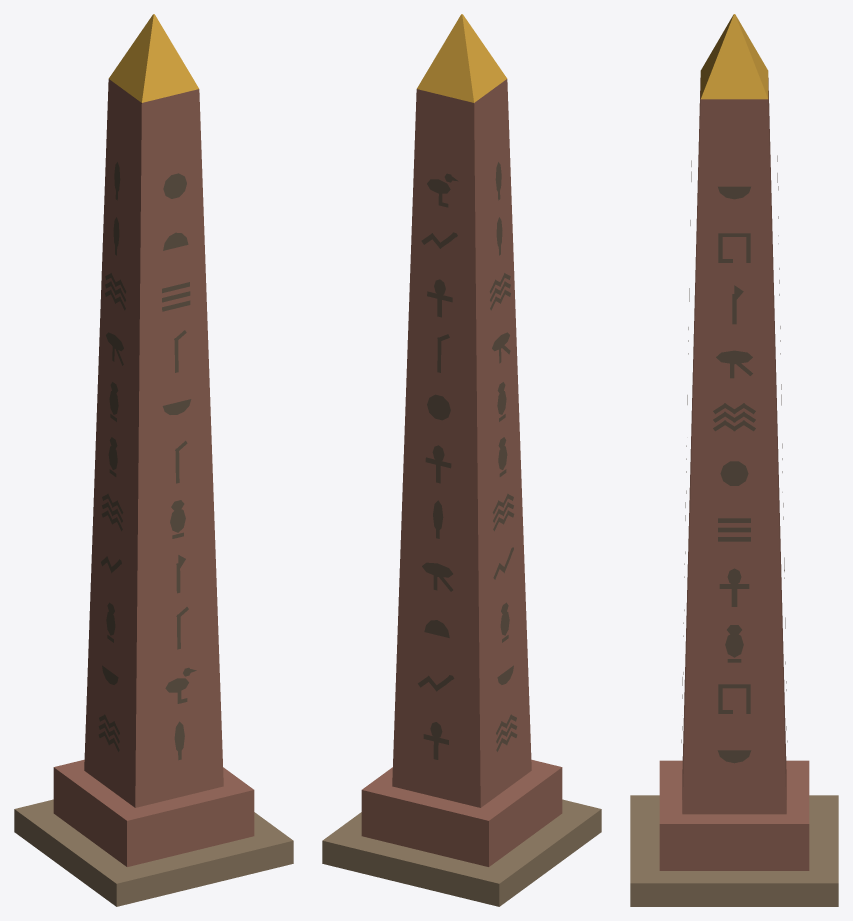
The model's file is obelisk.glb.
3 renders of one model, left to right at view 1: azimuth 30°, elevation 25°; view 2: azimuth 150°, elevation 25°; view 3: azimuth 270°, elevation 25°, orthographic.
Parts seen in each view (by area): view 1: obelisk; view 2: obelisk; view 3: obelisk.
Part boxes in pixels (box(x1,y1,x2,y2)): obelisk: box(14, 14, 293, 906); obelisk: box(322, 14, 601, 906); obelisk: box(630, 14, 838, 906).
Size of the model in its own units: 3.2 by 14.4 by 3.2.
